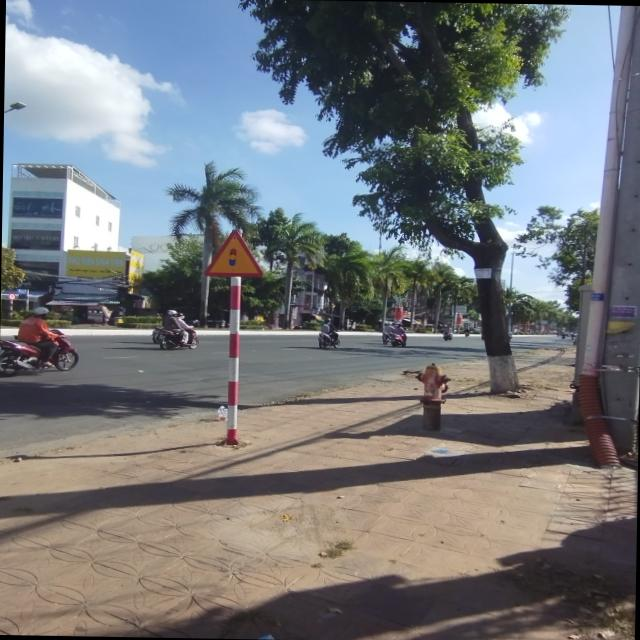Duong_Co_Go_Giam_Toc: (202, 228, 262, 278)
